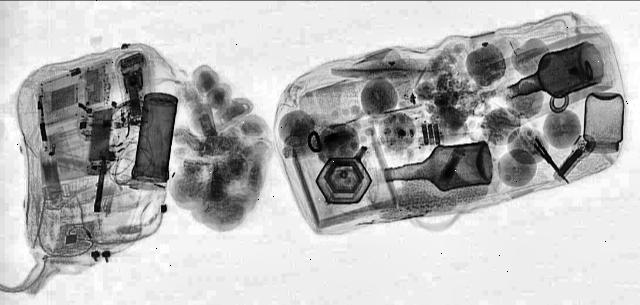Knife: (526, 138, 574, 184)
